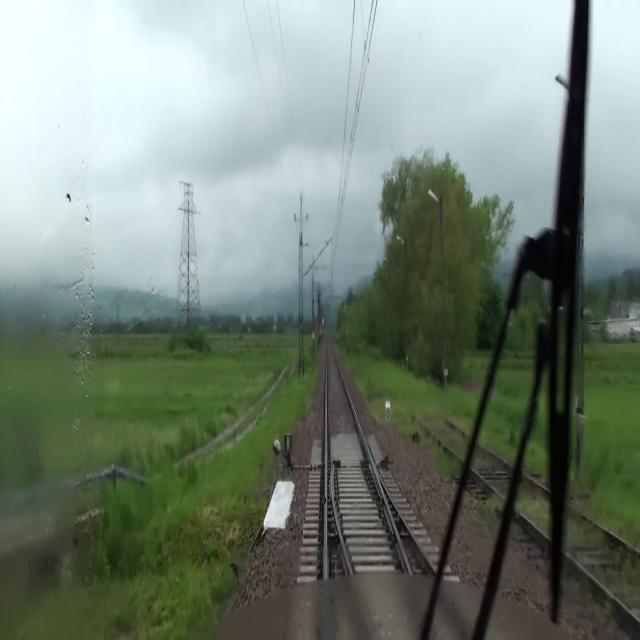rail-track: (369, 362, 600, 561), (327, 341, 431, 639), (393, 510, 471, 639)
